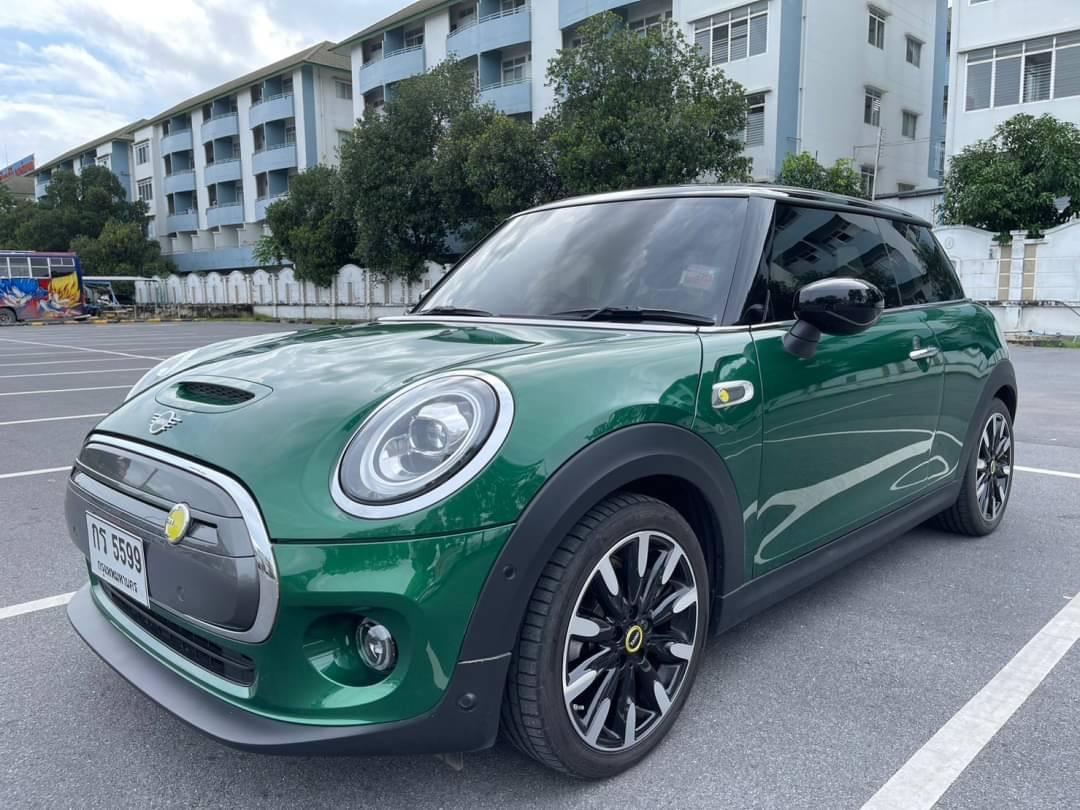license-plate: (82, 508, 155, 616)
